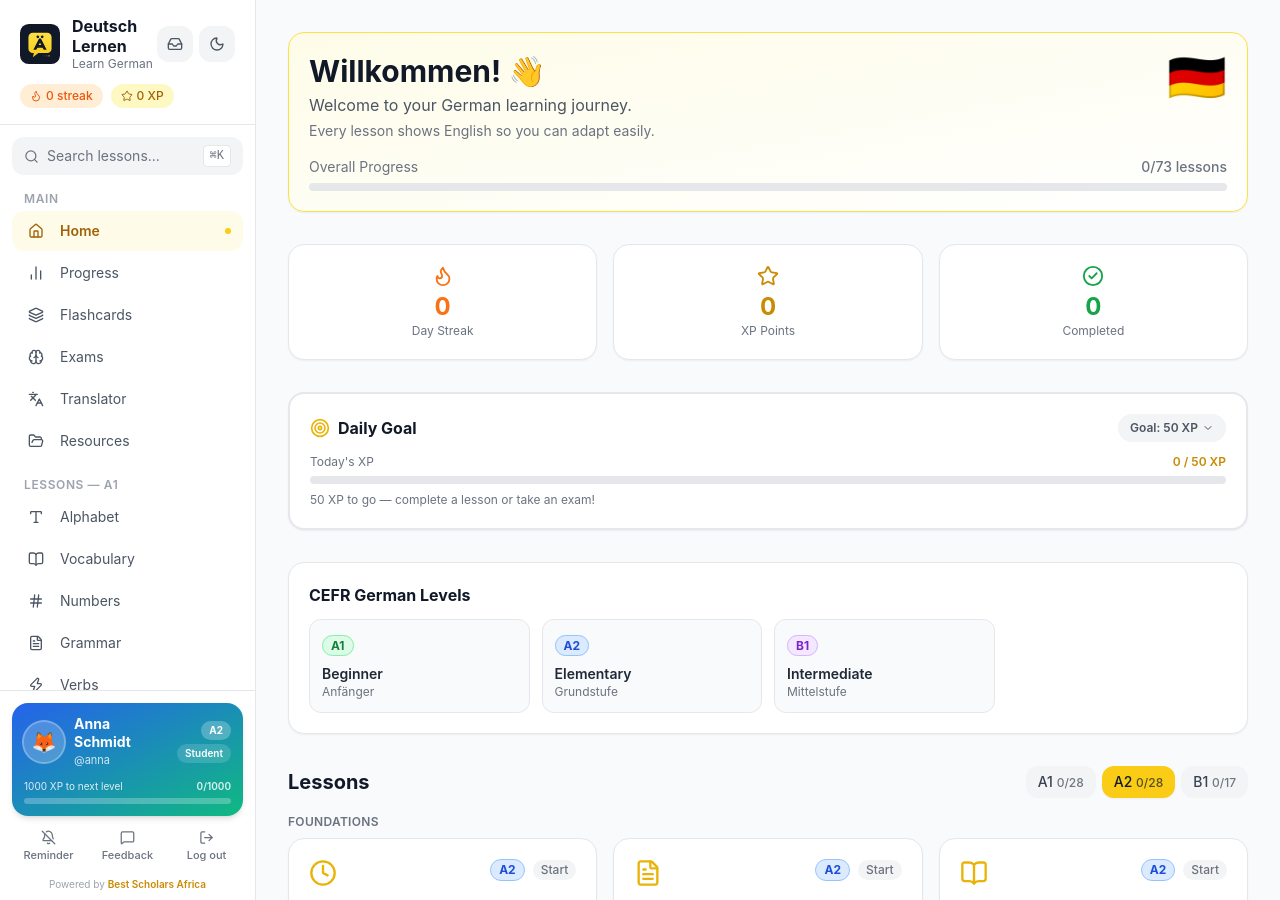
Test: the sidebar user card opens a profile popup with info and learning stats
The width and height of the screenshot is (1280, 900).
Click the button with aria-label "Open my profile" at (128,759), box [12, 703, 243, 816]
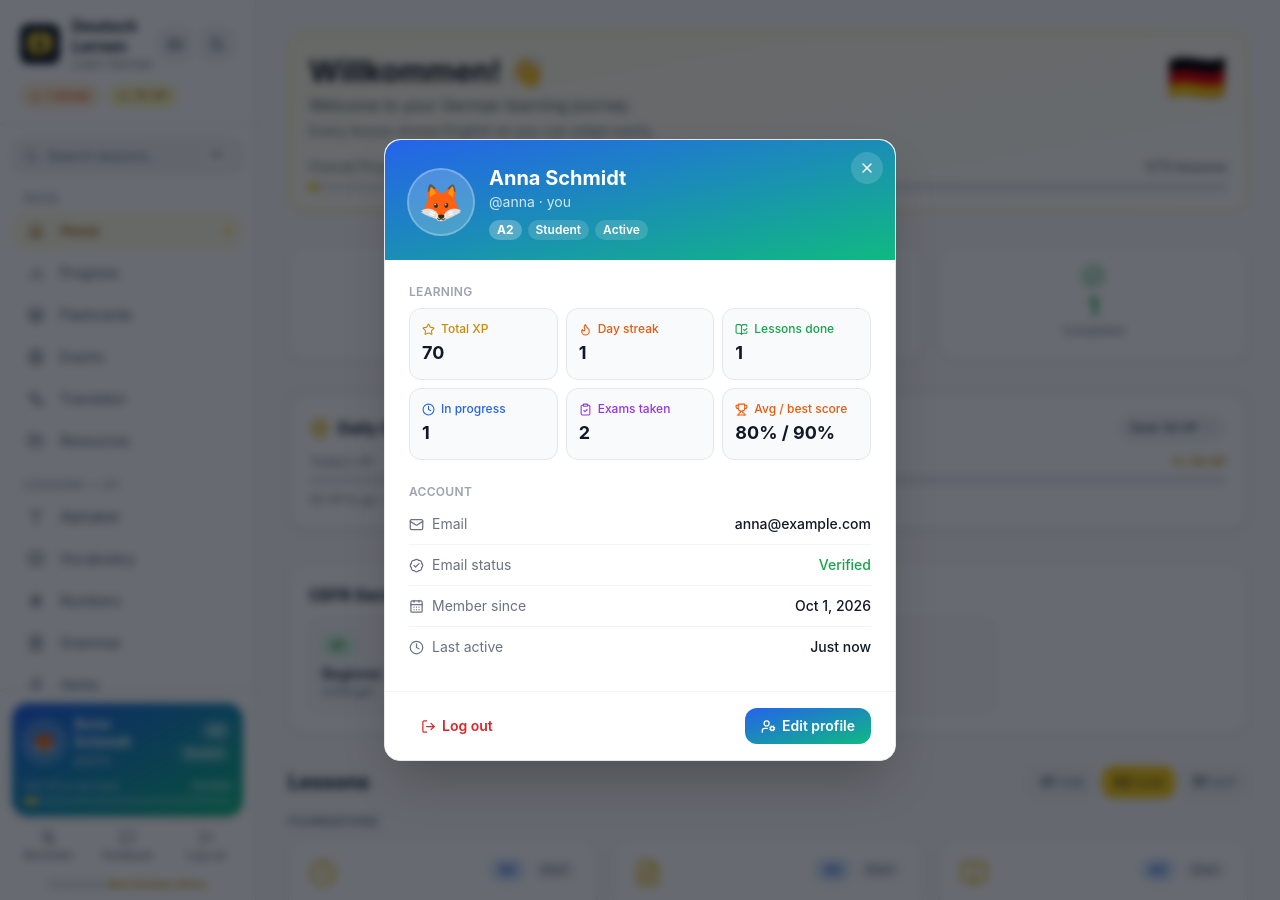
Result: the text "@anna · you" is shown at [489, 193, 571, 210]
Result: the text "70" is shown at [422, 342, 444, 363]
Result: the text "80% / 90%" is shown at [735, 422, 835, 443]
